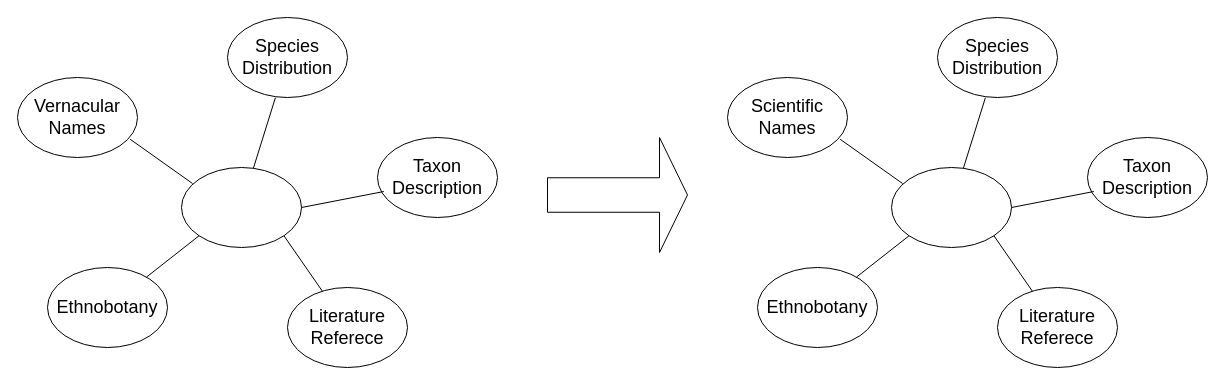
This 1225x385 diagram has some shape labels left out. The centre of each missing label's shape, as x and y in pixels:
Taxon Core: point (241, 207)
Vernacular Core: point (951, 207)
